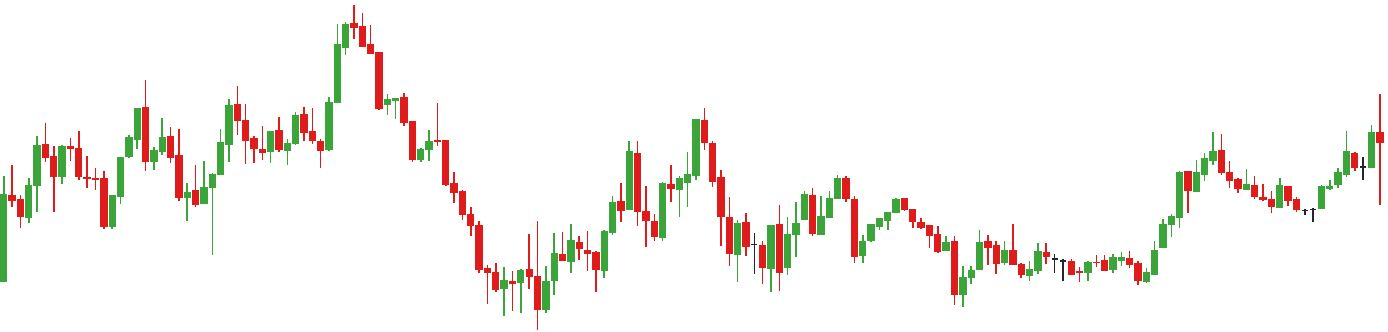buy: (48, 146, 118, 239)
sell: (625, 96, 710, 196)
